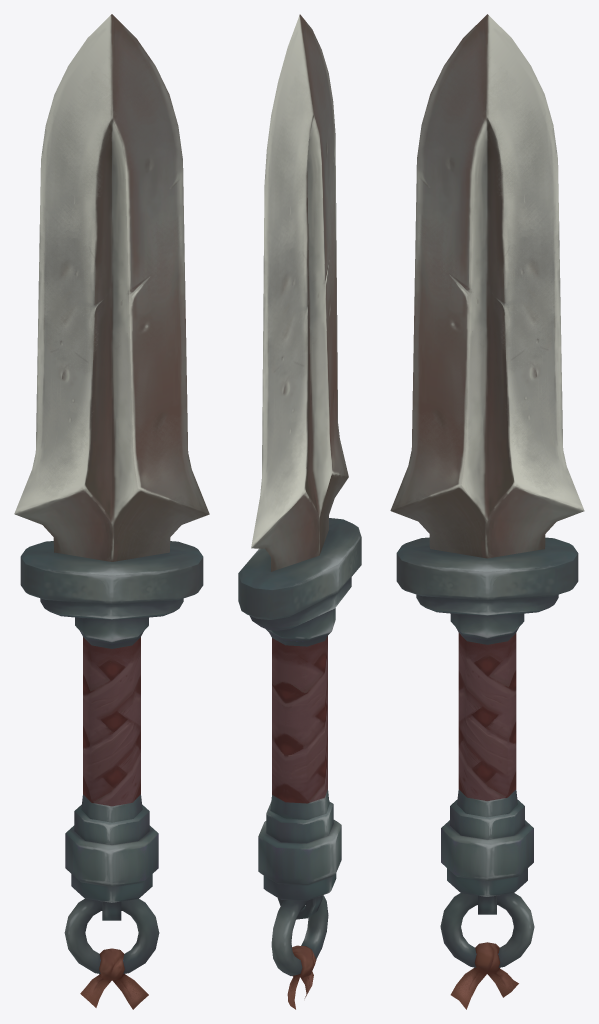
The picture shows the model from 3 angles, left to right: view 1: azimuth 90°, elevation 25°; view 2: azimuth 150°, elevation 25°; view 3: azimuth 270°, elevation 25°; orthographic projection.
Parts seen in each view (by area): view 1: Kinjal, Kinjal.001; view 2: Kinjal, Kinjal.001; view 3: Kinjal, Kinjal.001.
Part boxes in pixels (x1,y1,x2,y2): Kinjal: [14, 14, 209, 973]; Kinjal.001: [80, 948, 148, 1009]; Kinjal: [238, 14, 361, 975]; Kinjal.001: [287, 945, 316, 1009]; Kinjal: [390, 14, 584, 967]; Kinjal.001: [450, 942, 518, 1009].
Size of the model in its own units: 0.5332 by 6.62 by 1.17.
Materials: 1 (1 with a texture image).
